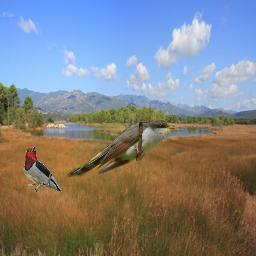Cuckoo: (65, 119, 175, 177)
Woodpecker: (22, 144, 64, 198)
